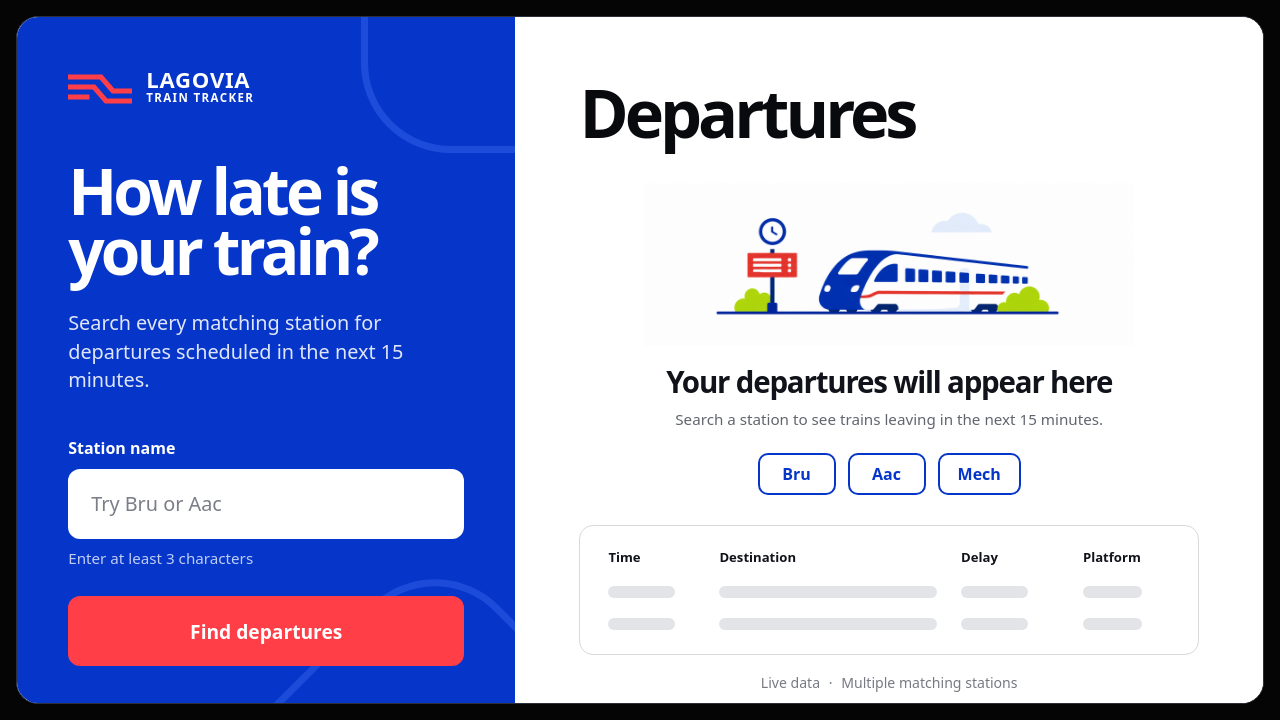
Test: App › renders a typed API error and its request reference
Type "Bru" into the search field labelled "Station name". click: coordinates (266, 504)
box: [68, 469, 464, 539]
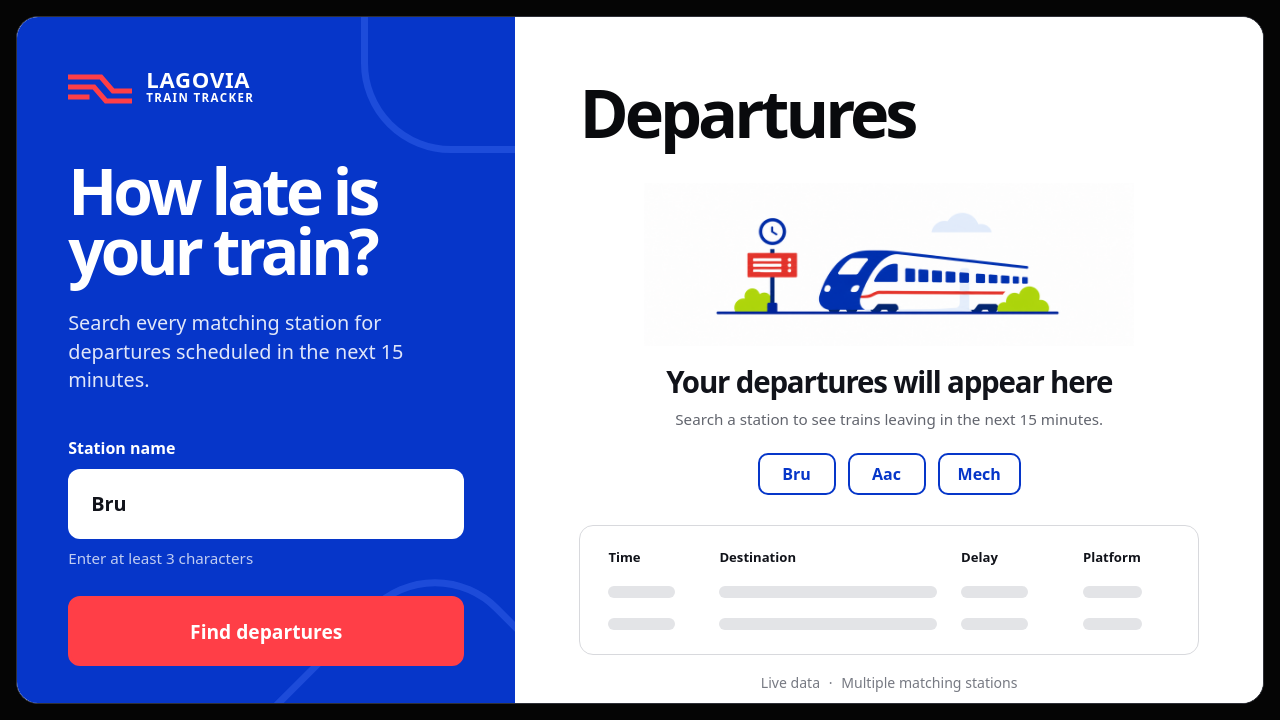
Click the button "Find departures". click: coordinates (266, 631)
box: [68, 596, 464, 666]
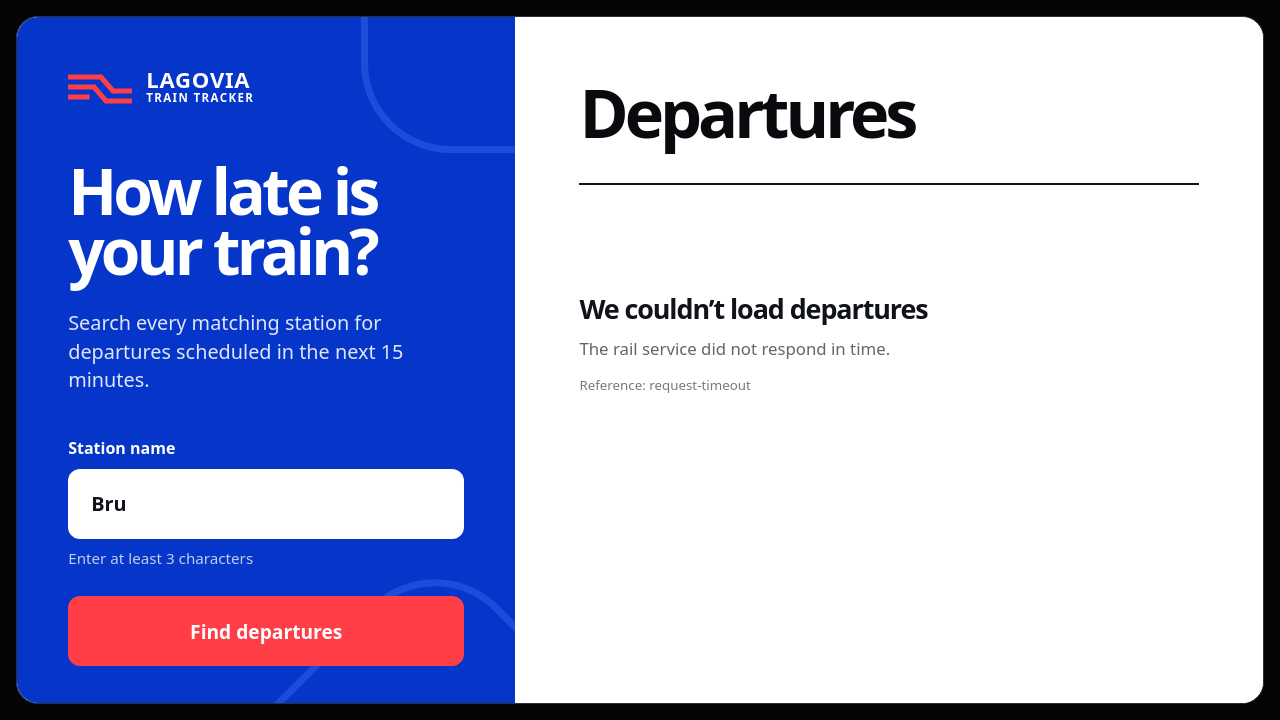
Result: the message shows "The rail service did not respond in time." at [579, 338, 890, 360]
Result: the message shows "Reference: request-timeout" at [579, 183, 1199, 503]
